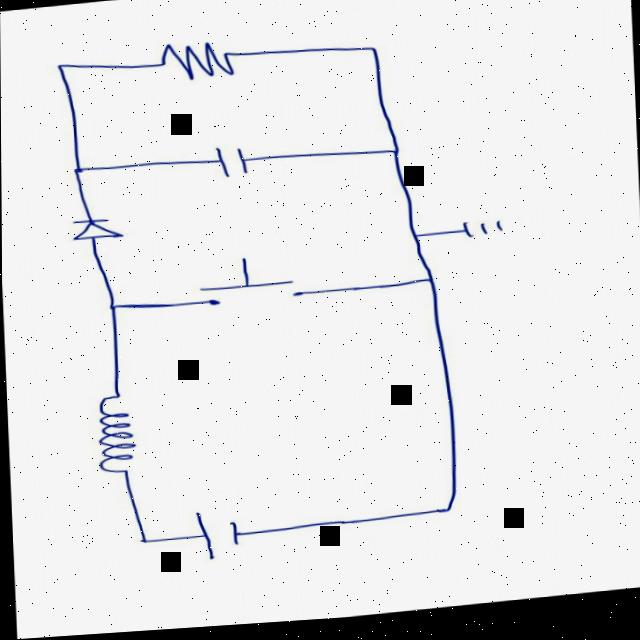capacitor: (182, 135, 277, 190)
diode: (56, 204, 128, 260)
ground: (439, 208, 531, 263)
inductor: (56, 375, 183, 499)
resistor: (125, 32, 266, 102)
source: (173, 499, 267, 584)
switch: (162, 251, 322, 331)
